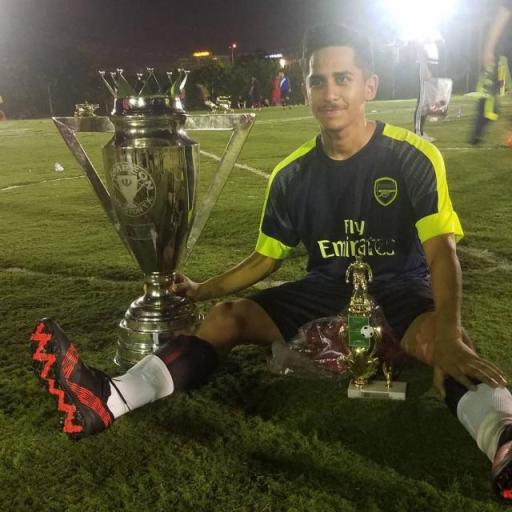Emirates: (316, 216, 398, 262)
